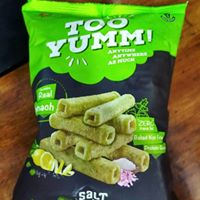plastic: (28, 1, 174, 200)
tooyumm: (42, 15, 159, 65)
wrapper: (31, 7, 170, 200)
